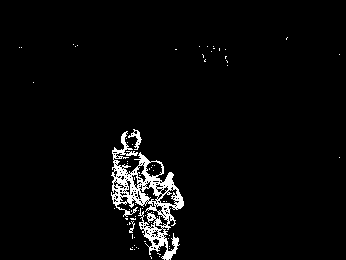person: (112, 128, 152, 248), (140, 161, 184, 260)
